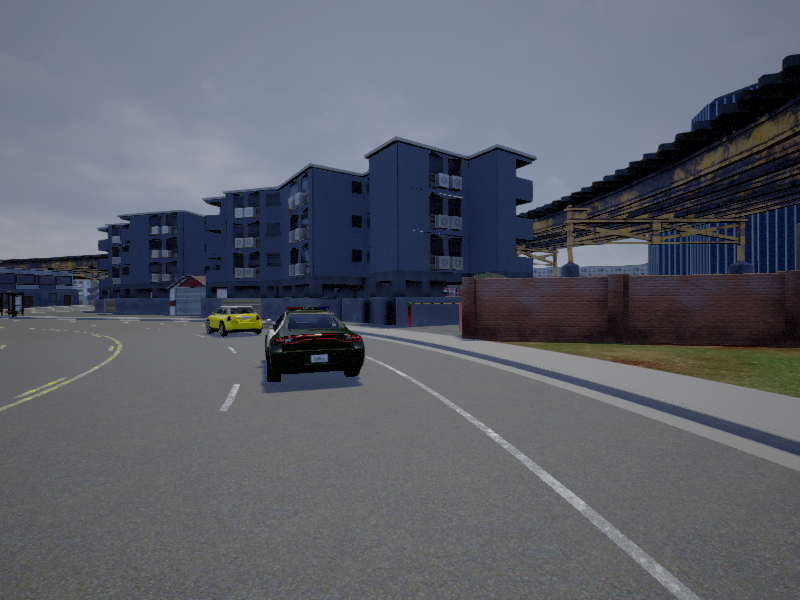Benign: (264, 306, 365, 385), (207, 304, 265, 335)
